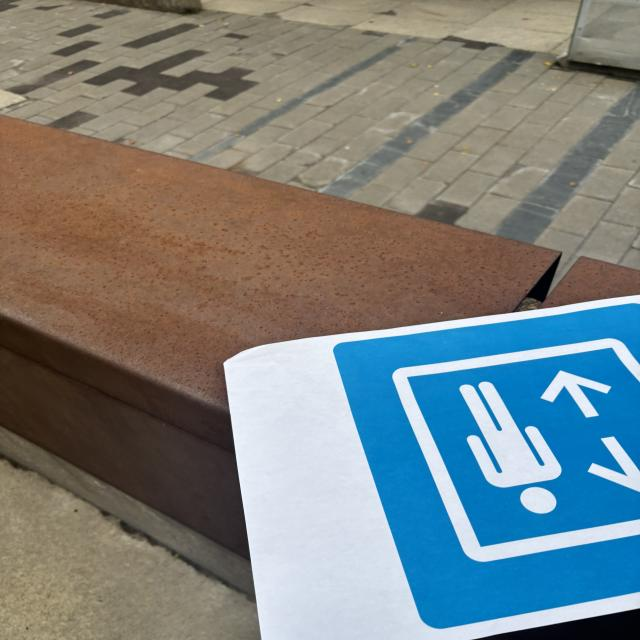elevator: (330, 300, 640, 629)
